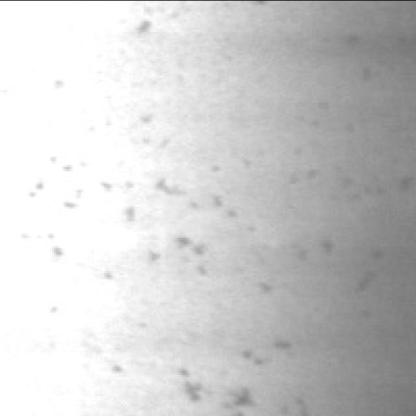pitted_surface: (13, 137, 378, 293), (156, 335, 304, 410)
